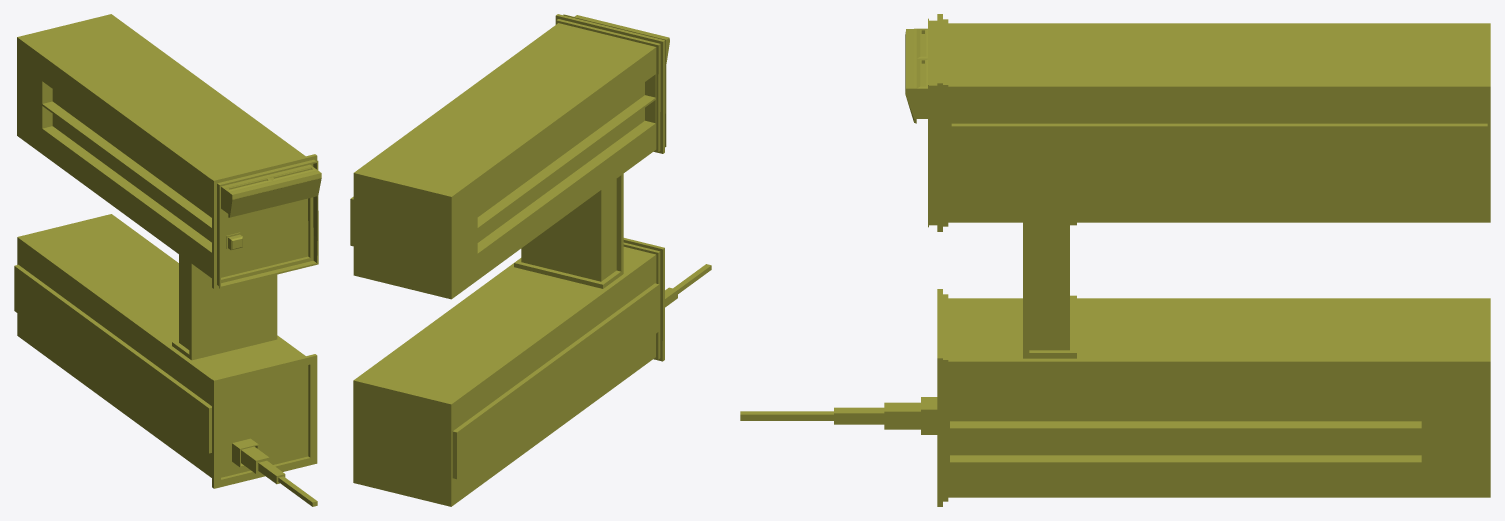
File: building_03.obj
3 views of the same model, side by side, from view 1: azimuth 30°, elevation 25°; view 2: azimuth 150°, elevation 25°; view 3: azimuth 270°, elevation 25° (orthographic). The views are drawn at different scales.
Visible parts, largest first — view 1: highrise_13; view 2: highrise_13; view 3: highrise_13.
Part boxes in pixels (x1,y1,x2,y2): highrise_13: (14, 14, 321, 506); highrise_13: (350, 14, 711, 506); highrise_13: (740, 14, 1490, 506).
Size of the model in its own units: 1.41 by 4.01 by 6.43.
